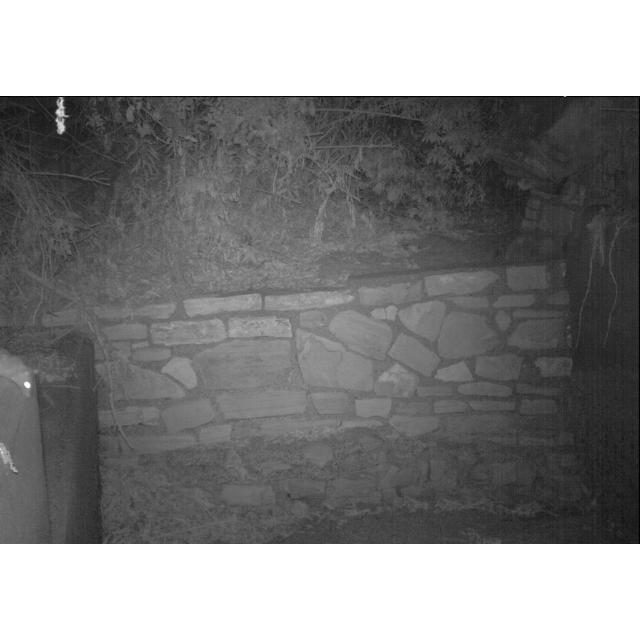animals: (1, 344, 42, 404)
